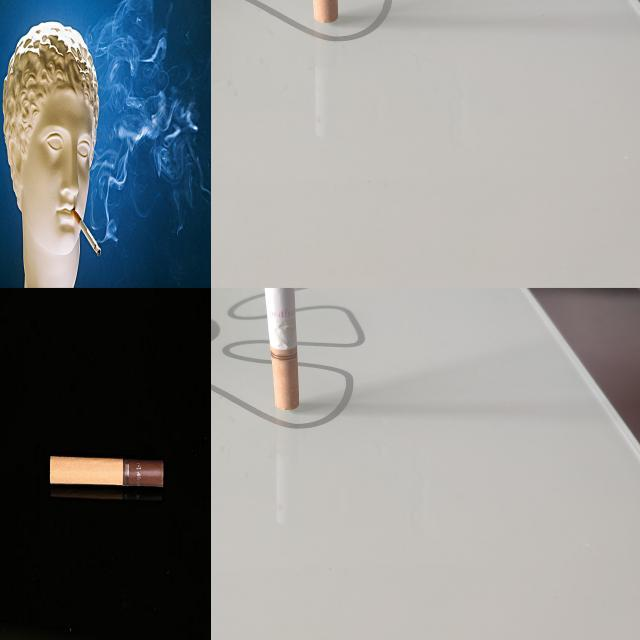cigarette: (258, 288, 302, 411), (49, 455, 165, 490), (71, 208, 102, 258)
